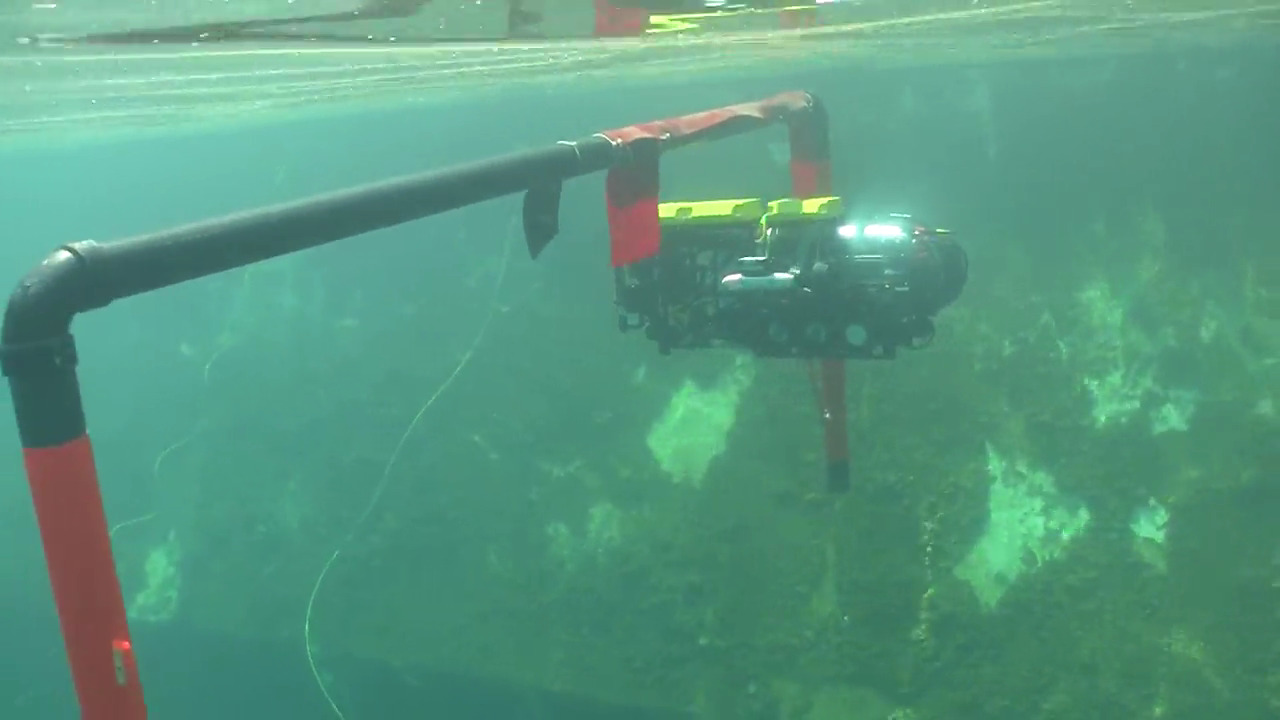gate: (1, 67, 863, 707)
